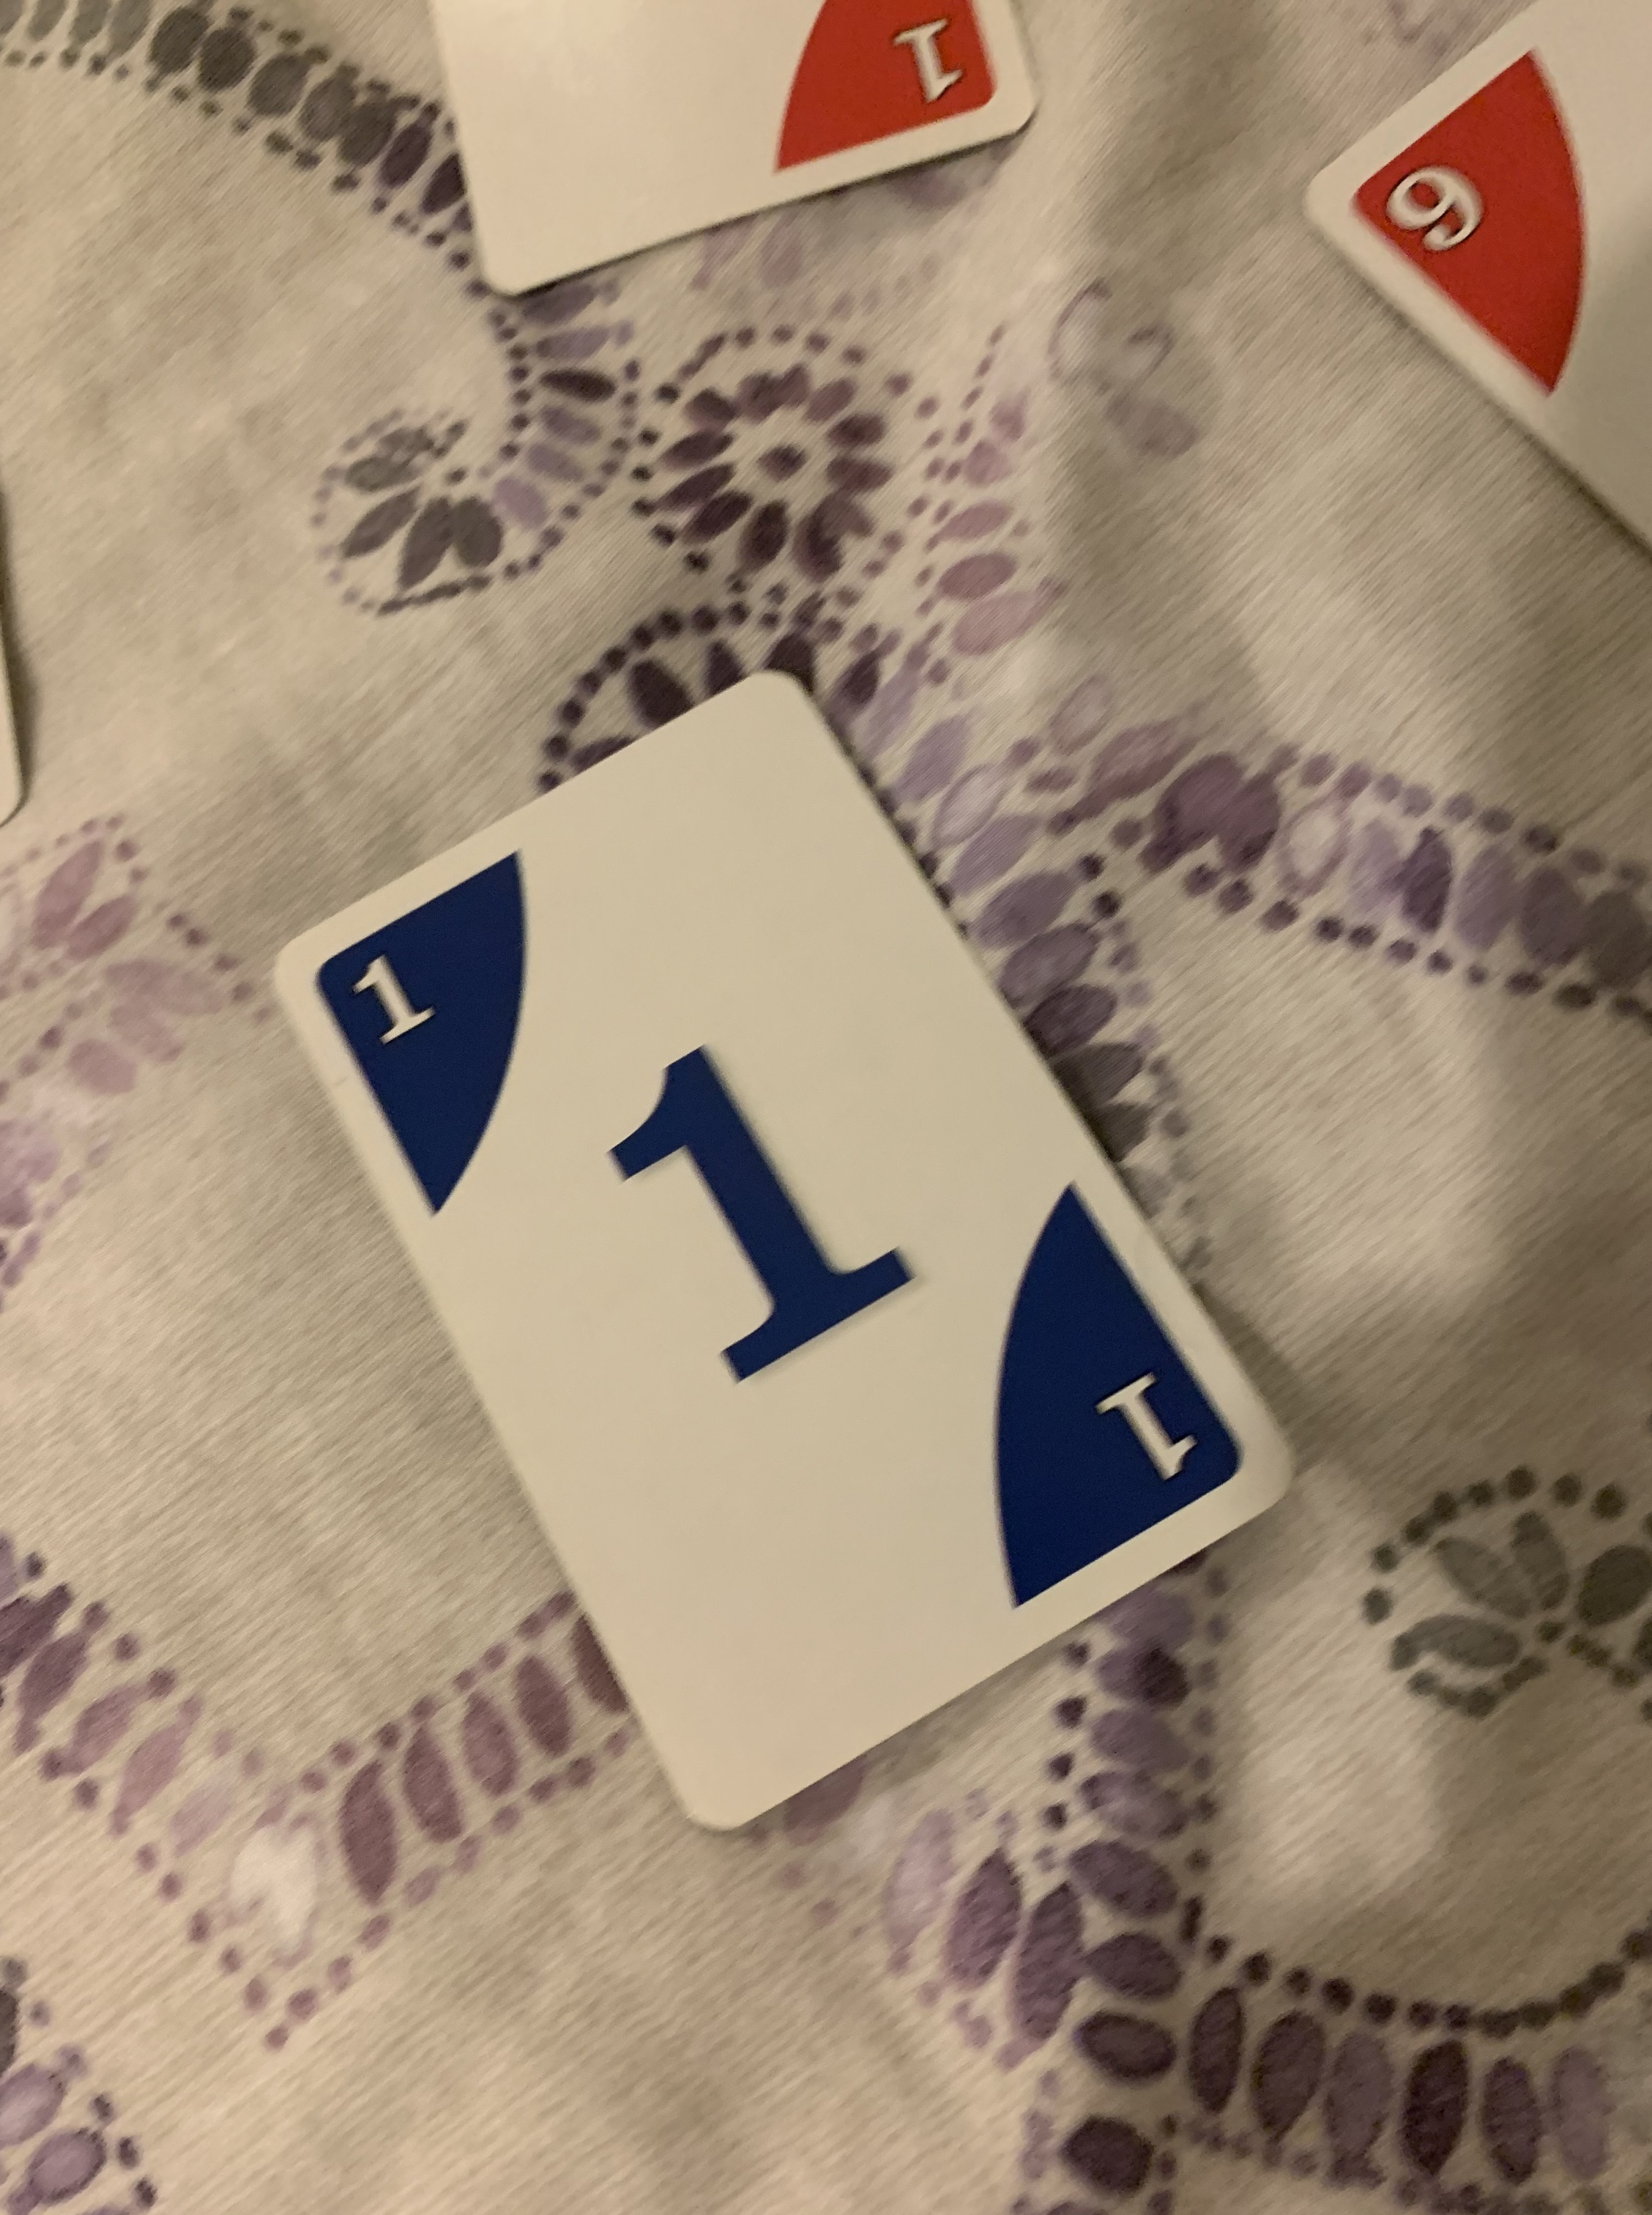one: (265, 667, 1300, 1835)
